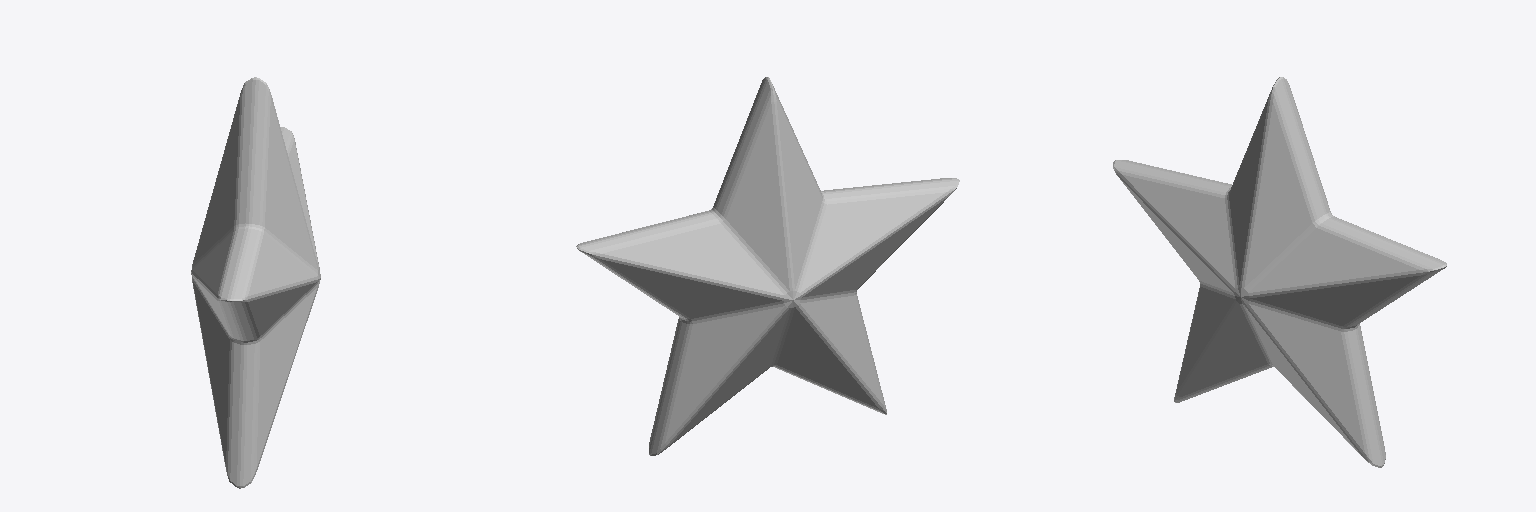
File: star.obj
3 views of the same model, side by side, from view 1: azimuth 30°, elevation 25°; view 2: azimuth 150°, elevation 25°; view 3: azimuth 270°, elevation 25° (orthographic).
Visible parts, largest first — view 1: B_Counter_table_stars; view 2: B_Counter_table_stars; view 3: B_Counter_table_stars.
Part boxes in pixels (x1,y1,x2,y2): B_Counter_table_stars: (191,77,320,488); B_Counter_table_stars: (576,77,959,455); B_Counter_table_stars: (1113,77,1446,467).
Size of the model in its own units: 0.387 by 0.5863 by 0.4964.